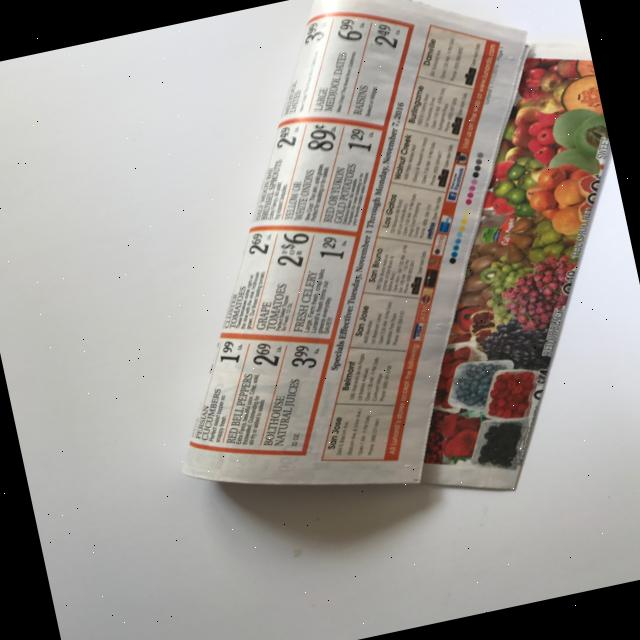paper: (89, 0, 618, 540)
